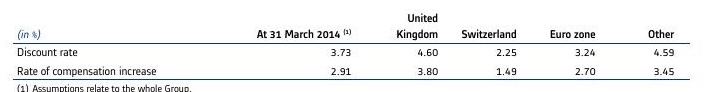table: (0, 0, 709, 92)
